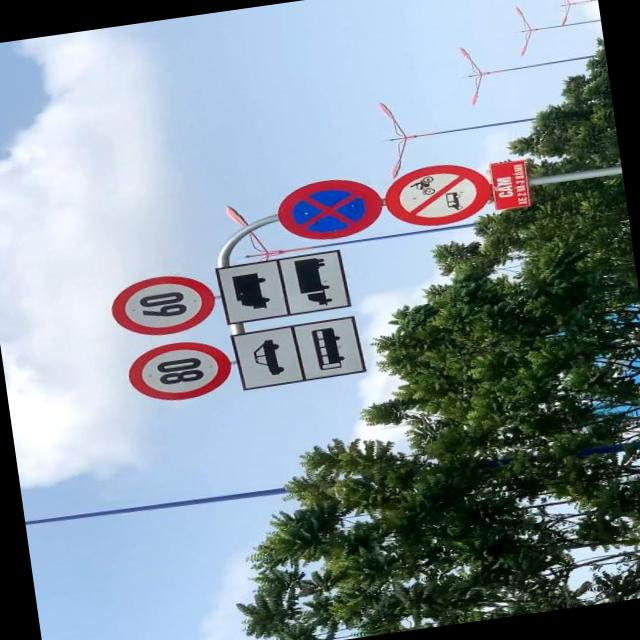P-104: (382, 159, 492, 234)
P-127: (122, 335, 235, 407), (108, 270, 222, 339)
P-130: (276, 172, 386, 246)
